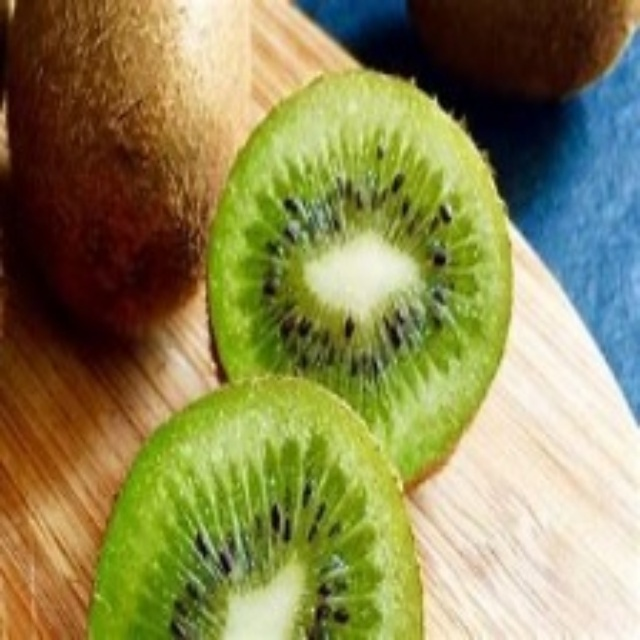kiwi: (214, 89, 490, 491), (87, 383, 421, 639), (10, 8, 240, 357)
